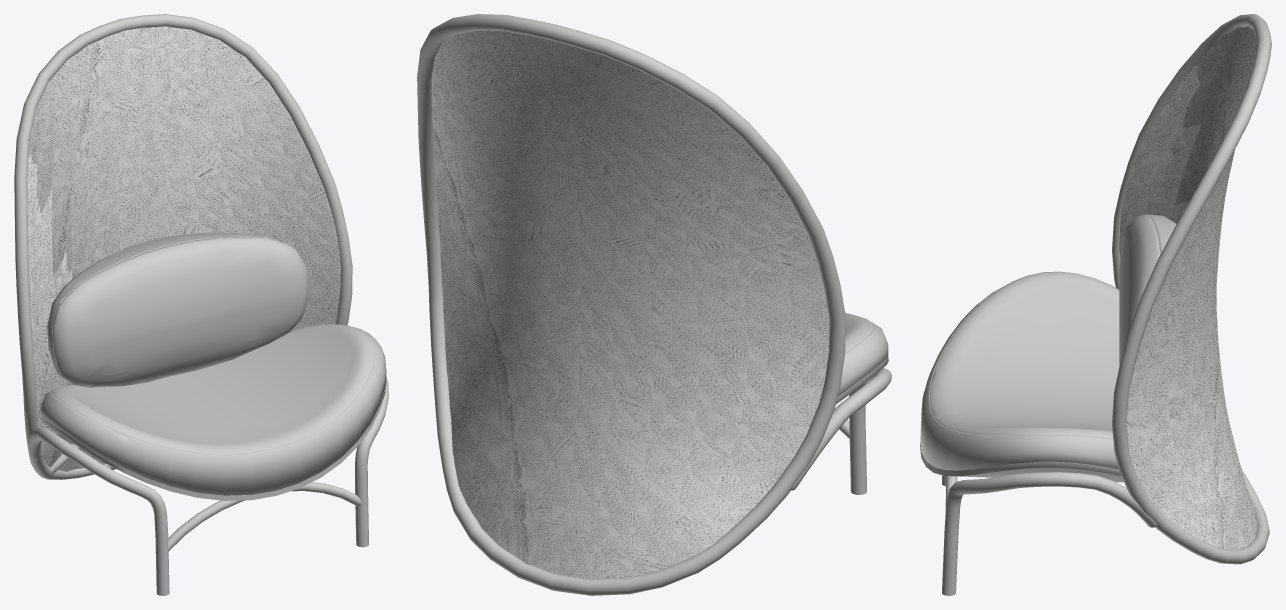
3 views of the same model, side by side, from view 1: azimuth 30°, elevation 25°; view 2: azimuth 150°, elevation 25°; view 3: azimuth 270°, elevation 25° (orthographic). The views are drawn at different scales.
Visible parts, largest first — view 1: Komponenta_4, Komponenta_2 (×2), Komponenta_1 (×2), Komponenta_5, Komponenta_6 (×2), Komponenta_3, Komponenta_8; view 2: Komponenta_4, Komponenta_5, Komponenta_6, Komponenta_2 (×2); view 3: Komponenta_4 (×2), Komponenta_2 (×2), Komponenta_5, Komponenta_6, Komponenta_1 (×2), Komponenta_3.
Part boxes in pixels (x1,y1,x2,y2): Komponenta_4: [27, 26, 340, 471]; Komponenta_2 (×2): [40, 324, 386, 495]; Komponenta_1 (×2): [47, 232, 309, 387]; Komponenta_5: [14, 14, 352, 479]; Komponenta_6 (×2): [28, 377, 388, 595]; Komponenta_3: [40, 376, 386, 500]; Komponenta_8: [167, 482, 361, 551]; Komponenta_4: [431, 30, 829, 579]; Komponenta_5: [417, 14, 845, 595]; Komponenta_6: [791, 368, 891, 494]; Komponenta_2 (×2): [838, 313, 888, 396]; Komponenta_4 (×2): [1119, 26, 1257, 549]; Komponenta_2 (×2): [920, 271, 1119, 470]; Komponenta_5: [1112, 14, 1271, 564]; Komponenta_6: [942, 472, 1157, 595]; Komponenta_1 (×2): [1119, 214, 1176, 366]; Komponenta_3: [920, 442, 1124, 482].
Bounding box in the file's own units: 38.2 × 31.33 × 49.23.
